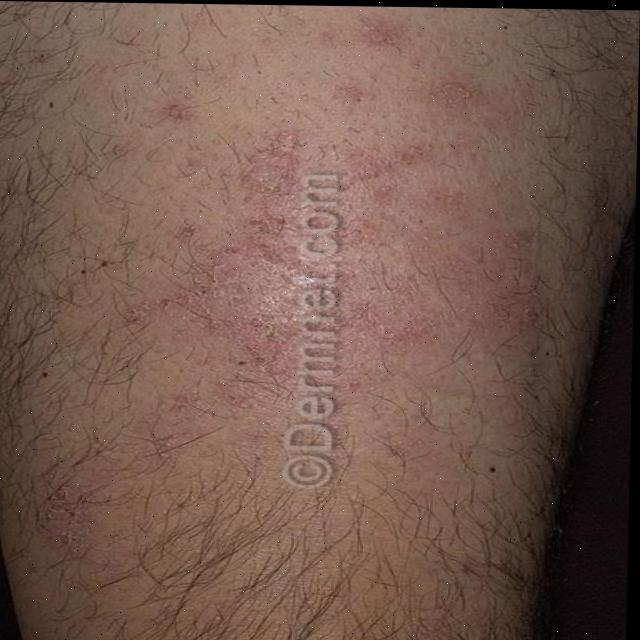Eczema: (208, 6, 472, 394)
